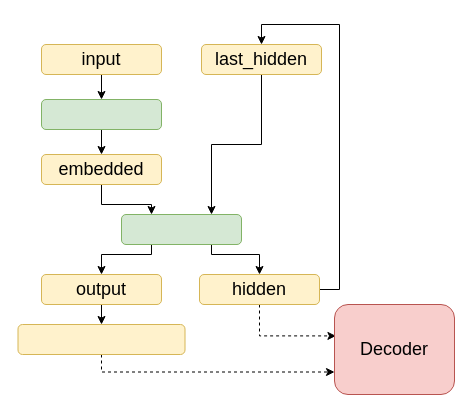
Image size: 472x412. Some labels were removed from this diagram. The shapes that lost their labels are listed below. From the top down, each one's centre as x and y in pixels, then its label:
At point 101,114: "embedding".
At point 181,229: "LSTM/GRU".
At point 101,339: "all_encoder_outputs".
